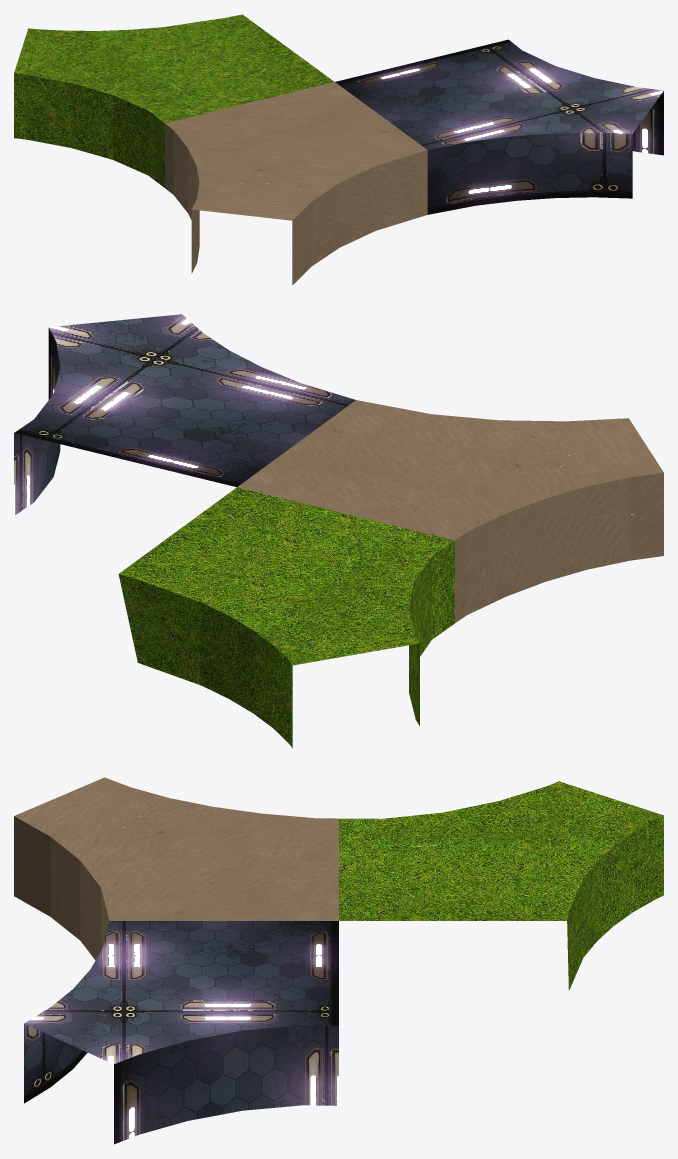
3 renders of one model, top to bottom at view 1: azimuth 30°, elevation 25°; view 2: azimuth 150°, elevation 25°; view 3: azimuth 270°, elevation 25°, orthographic. The views are drawn at different scales.
Parts seen in each view (by area): view 1: MeshBaker__5__mesh_mesh; view 2: MeshBaker__5__mesh_mesh; view 3: MeshBaker__5__mesh_mesh.
Part boxes in pixels (x1,y1,x2,y2): MeshBaker__5__mesh_mesh: [14, 14, 663, 284]; MeshBaker__5__mesh_mesh: [14, 314, 663, 748]; MeshBaker__5__mesh_mesh: [14, 777, 663, 1144].
Size of the model in its own units: 23962 by 3122 by 22935.
